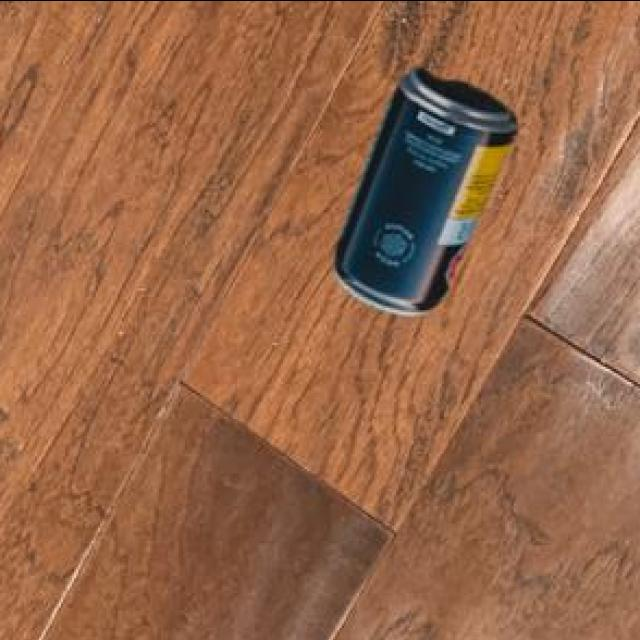logam: (332, 71, 513, 319)
